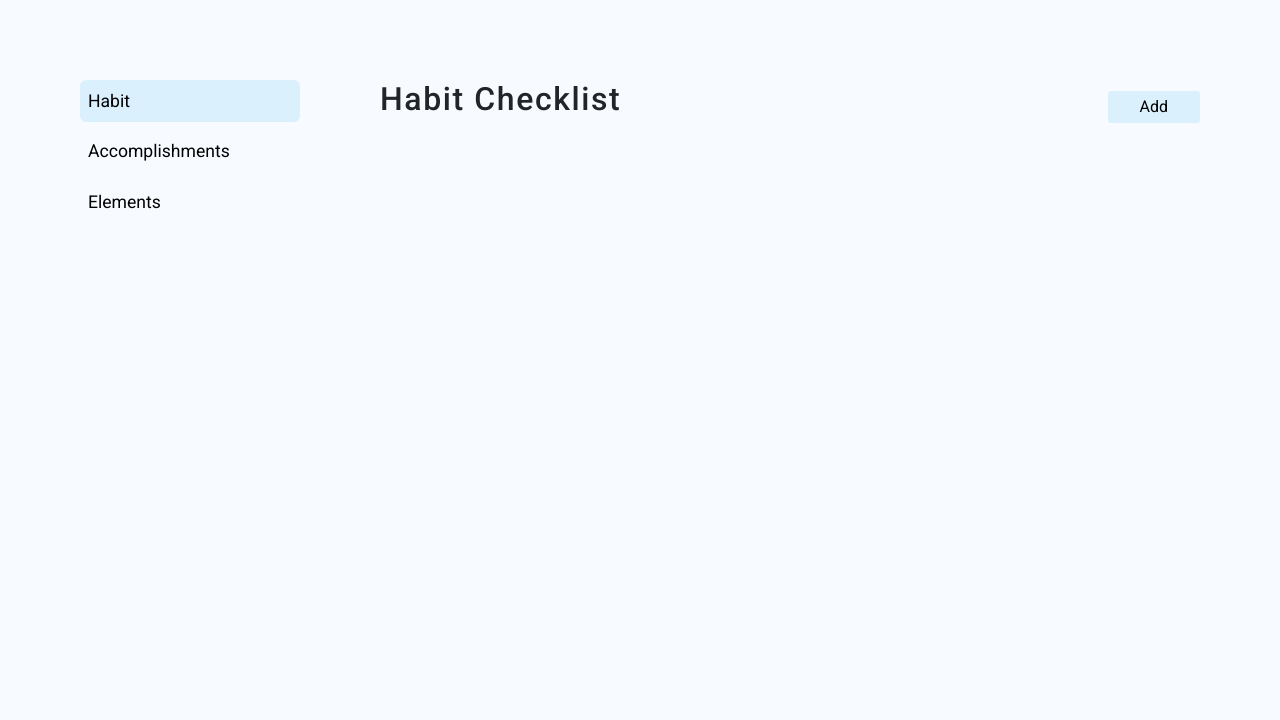
habit › modal
Click the button "Add". click: (1155, 107)
box: [1108,91,1201,123]
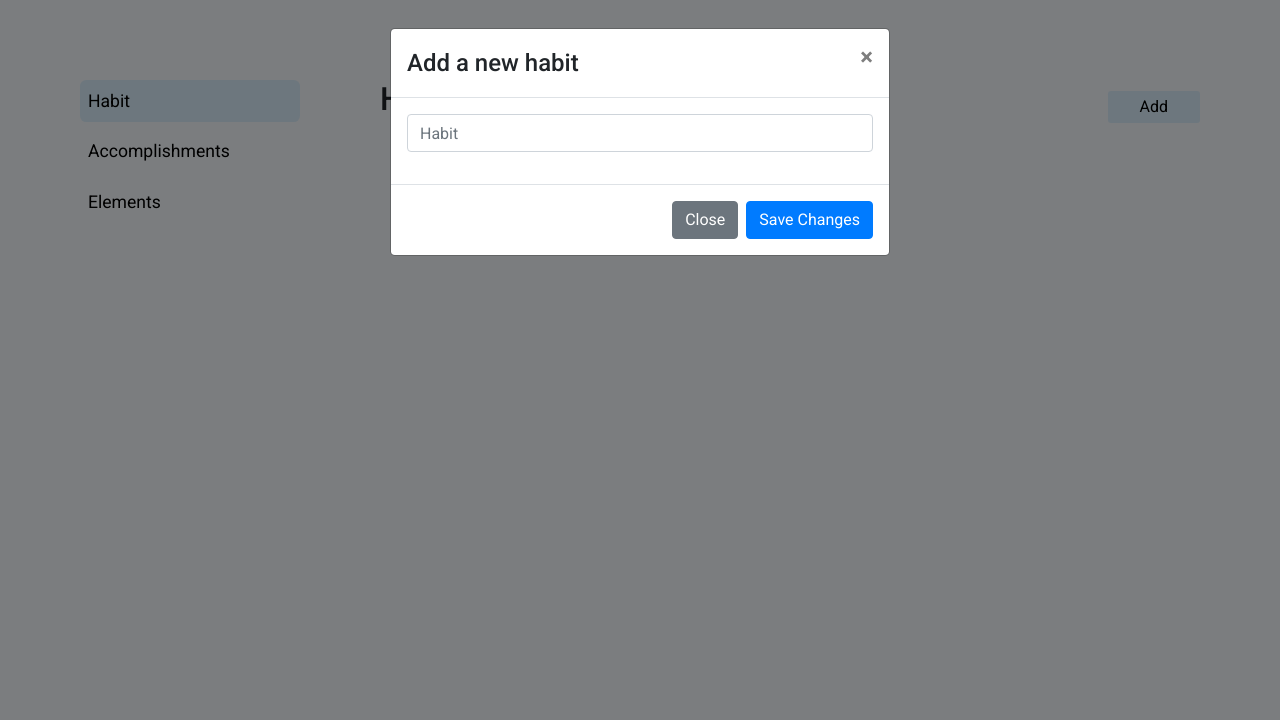
Now the element with class "modal-dialog" is shown, box [390,28,890,256]
Now the field with placeholder "Habit" is shown
Now the field with placeholder "Habit" is enabled
Type "learning cypress" into the field with placeholder "Habit". click: (640, 133)
box: [407,114,873,152]
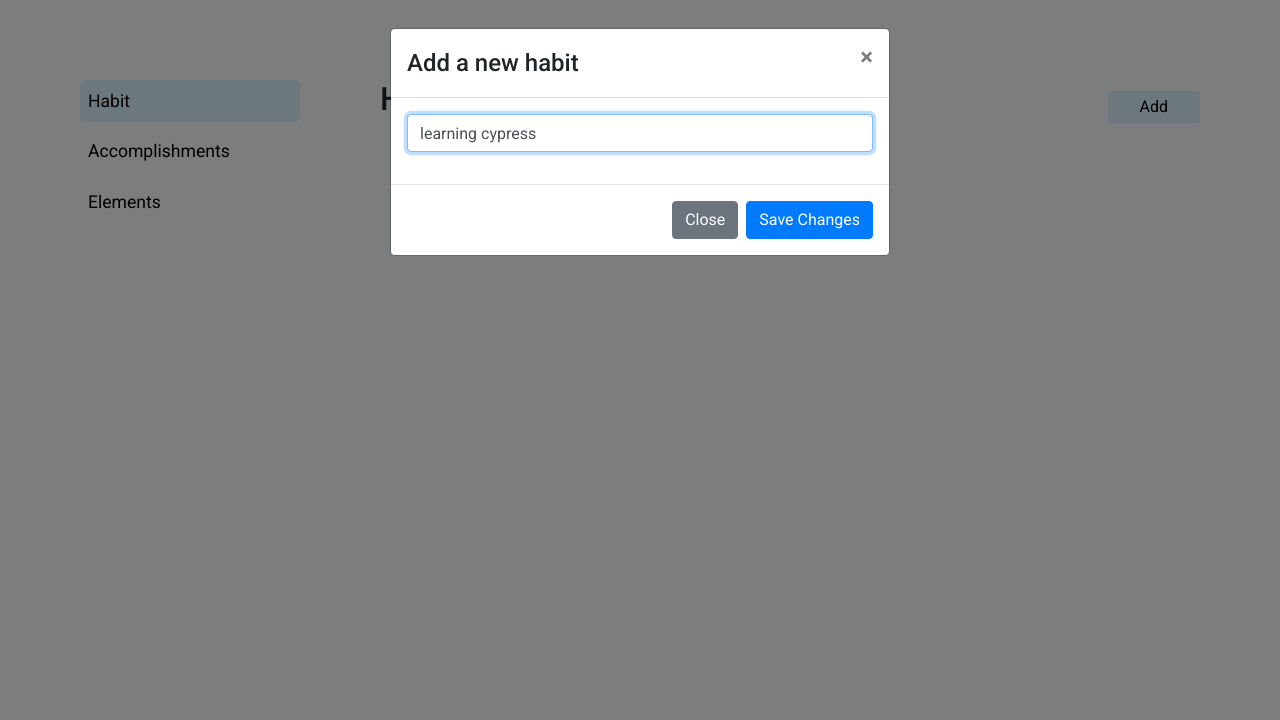
Click the button "Save Changes". click: (810, 220)
box: [746,201,873,239]
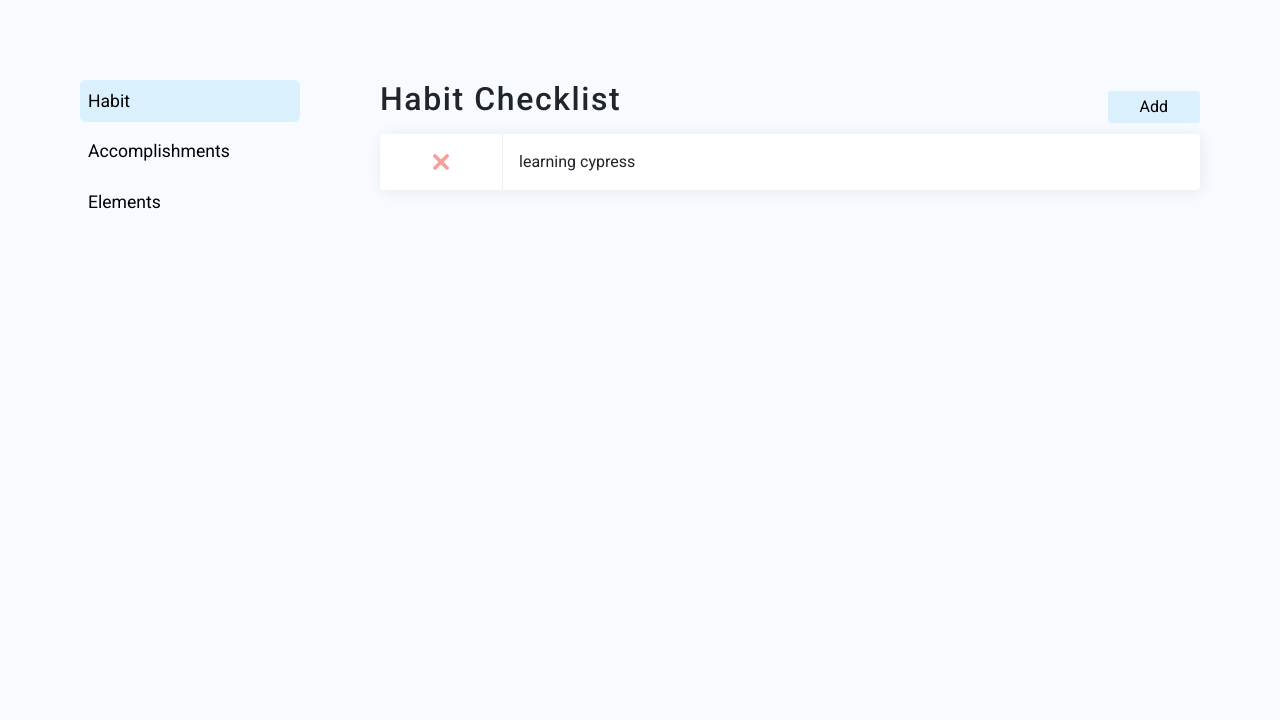
Now the element with class "Habit-cards-container" is shown, box [380,134,1200,190]
Now the text with class "HabitCard__habit-container" reads "learning cypress", box [519,152,635,171]
